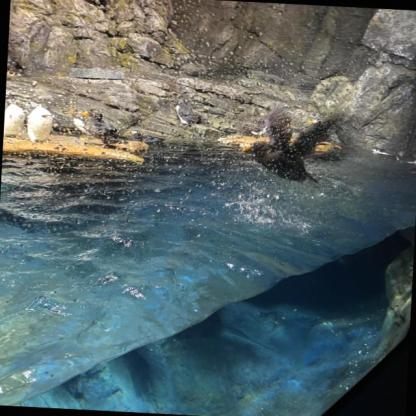puffin: (241, 113, 332, 187), (76, 110, 115, 153), (64, 106, 96, 140), (120, 126, 160, 152), (172, 100, 198, 126)
